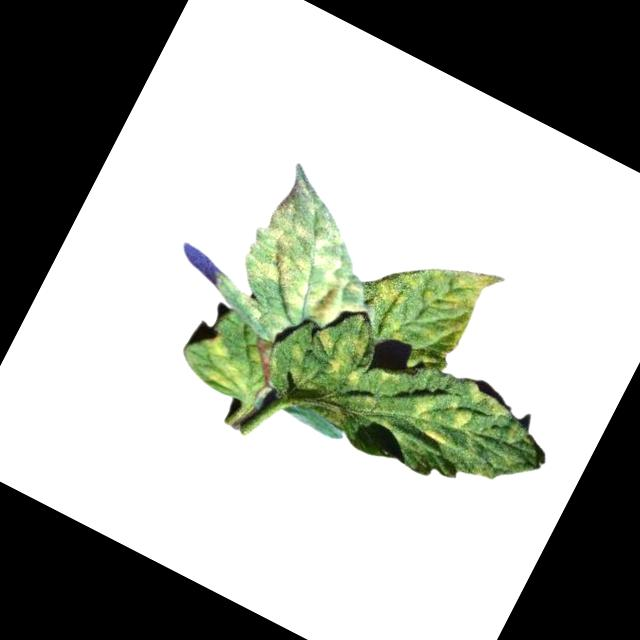Leaf_Mold: (214, 168, 403, 370), (352, 227, 506, 385), (400, 381, 475, 455), (303, 319, 377, 387), (187, 330, 259, 396), (458, 375, 515, 422)
